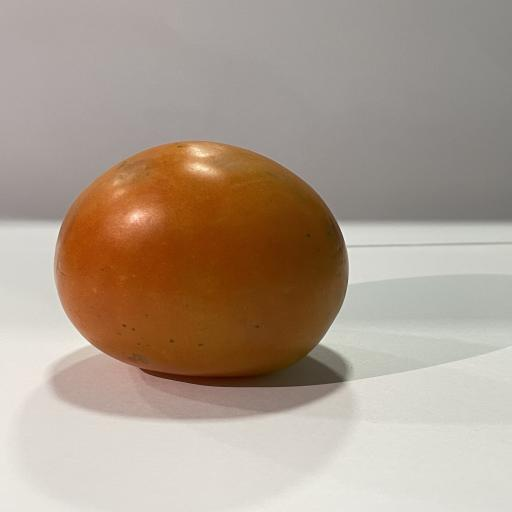unripe: (54, 141, 348, 376)
